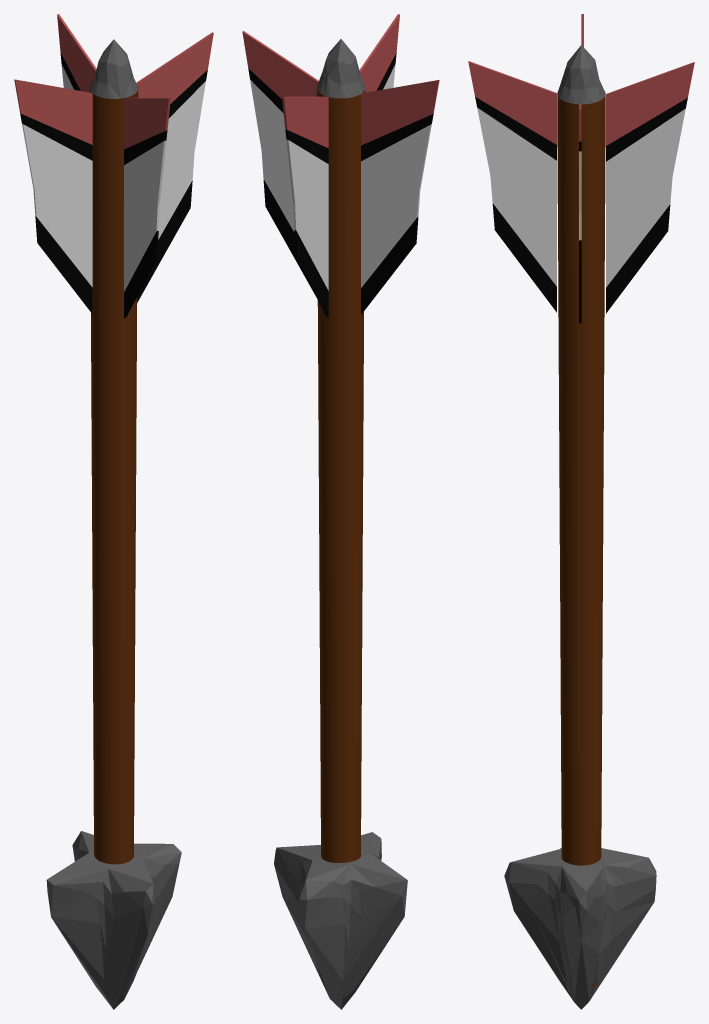
The model's file is FlechaV2.fbx.
3 renders of one model, left to right at view 1: azimuth 30°, elevation 25°; view 2: azimuth 150°, elevation 25°; view 3: azimuth 270°, elevation 25°, orthographic.
Visible parts, largest first — view 1: Cylinder.008, Cylinder.013, Cylinder.012, Cylinder.009, Cylinder.006; view 2: Cylinder.008, Cylinder.013, Cylinder.012, Cylinder.009, Cylinder.006; view 3: Cylinder.008, Cylinder.013, Cylinder.012, Cylinder.009, Cylinder.006.
Part boxes in pixels (bbox=[...]): Cylinder.008: bbox=[89, 87, 138, 987]; Cylinder.013: bbox=[46, 39, 181, 1009]; Cylinder.012: bbox=[22, 64, 205, 291]; Cylinder.009: bbox=[14, 14, 213, 149]; Cylinder.006: bbox=[20, 52, 207, 317]; Cylinder.008: bbox=[316, 90, 365, 987]; Cylinder.013: bbox=[274, 39, 407, 1009]; Cylinder.012: bbox=[250, 64, 431, 290]; Cylinder.009: bbox=[242, 14, 439, 148]; Cylinder.006: bbox=[248, 52, 433, 317]; Cylinder.008: bbox=[557, 92, 605, 986]; Cylinder.013: bbox=[504, 45, 656, 1009]; Cylinder.012: bbox=[477, 107, 685, 287]; Cylinder.009: bbox=[468, 14, 694, 145]; Cylinder.006: bbox=[475, 97, 687, 323].
Bounding box in the file's own units: 46.34 × 218 × 46.34.
